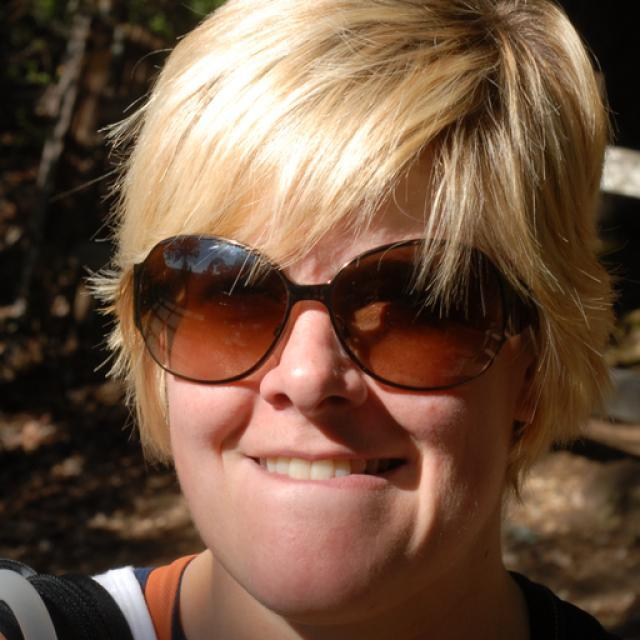happy: (151, 128, 515, 612)
